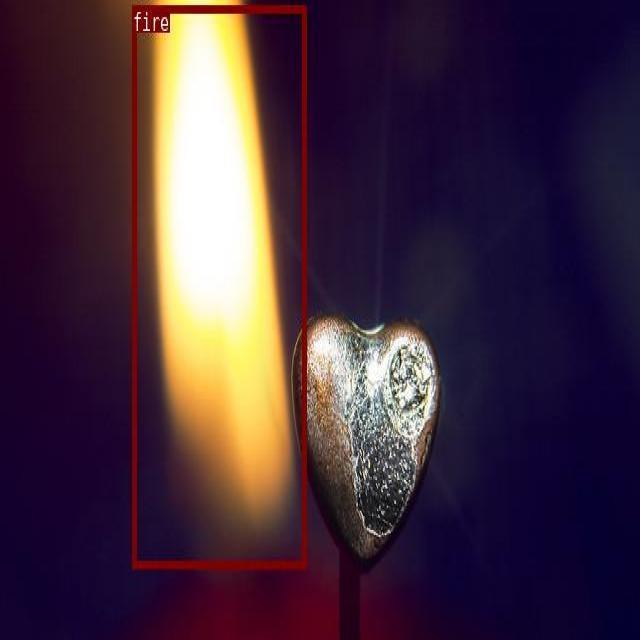fire: (131, 4, 306, 567)
